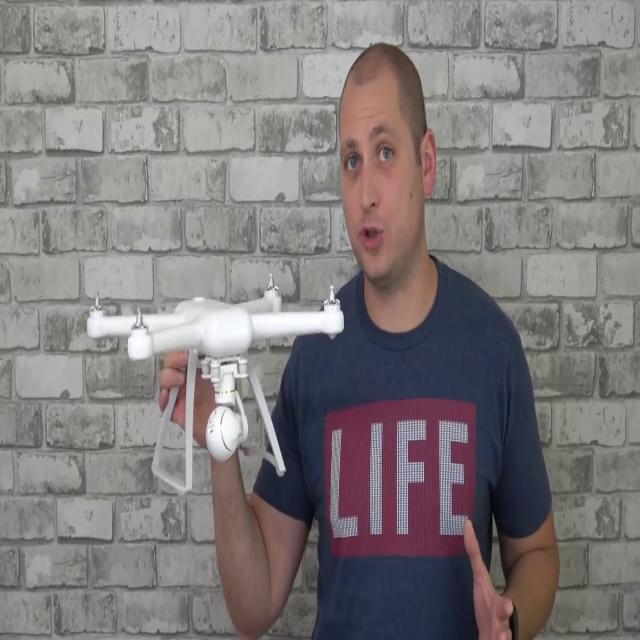drone: (80, 264, 349, 385)
